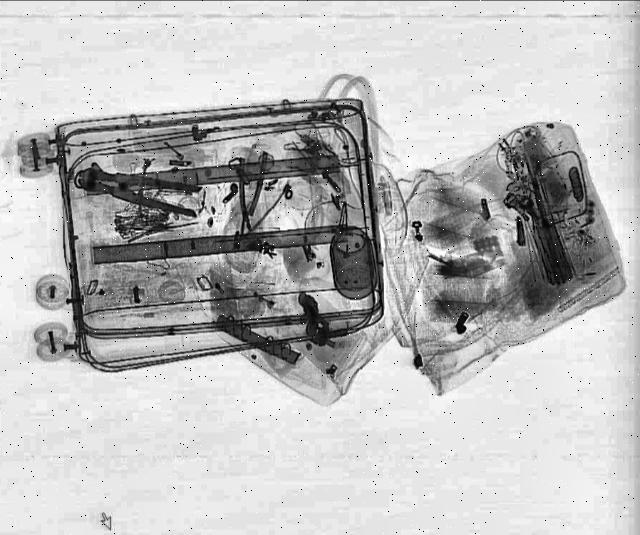Pliers: (74, 163, 210, 217)
